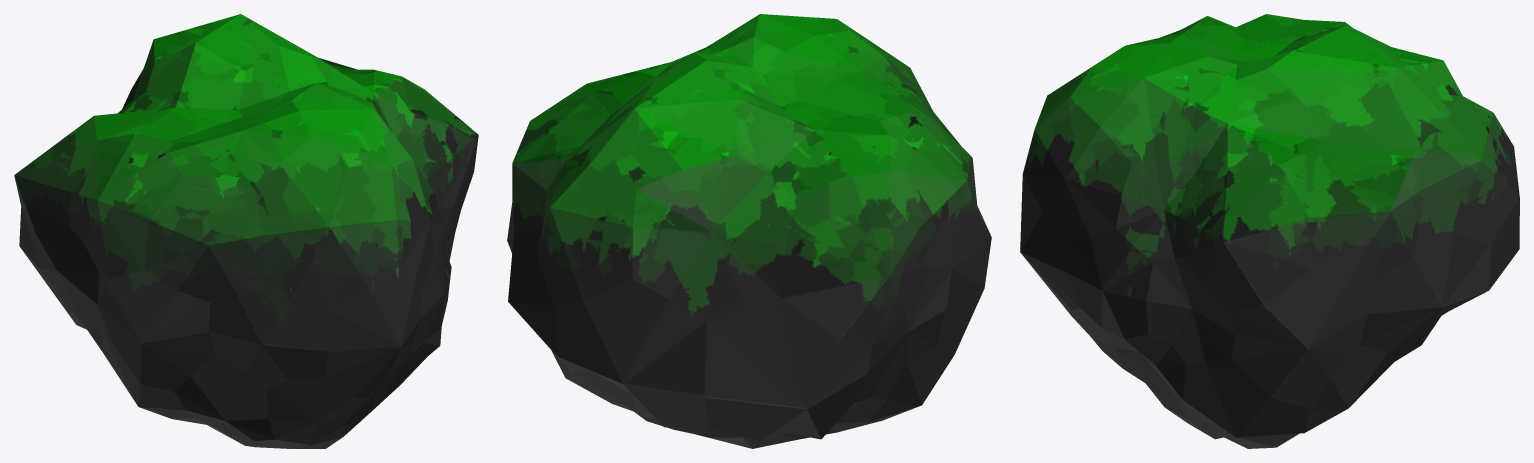
File: GrassyRock1.glb
The picture shows the model from 3 angles, left to right: view 1: azimuth 30°, elevation 25°; view 2: azimuth 150°, elevation 25°; view 3: azimuth 270°, elevation 25°; orthographic projection. The views are drawn at different scales.
Visible parts, largest first — view 1: GrassyRock1; view 2: GrassyRock1; view 3: GrassyRock1.
Part boxes in pixels (x1=…): GrassyRock1: x1=14, y1=14, x2=478, y2=448; GrassyRock1: x1=507, y1=14, x2=991, y2=448; GrassyRock1: x1=1020, y1=14, x2=1519, y2=448.
Bounding box in the file's own units: 3.98 × 3.53 × 4.22.
1 material, 1 textured.
